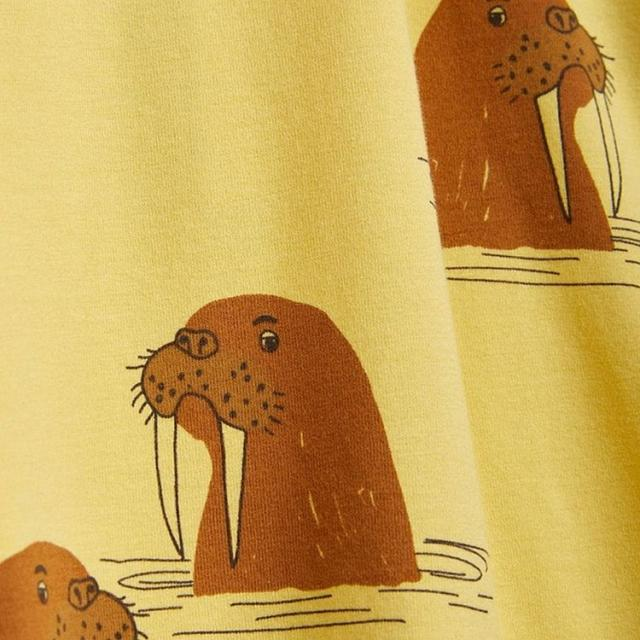walrus: (76, 254, 446, 555)
